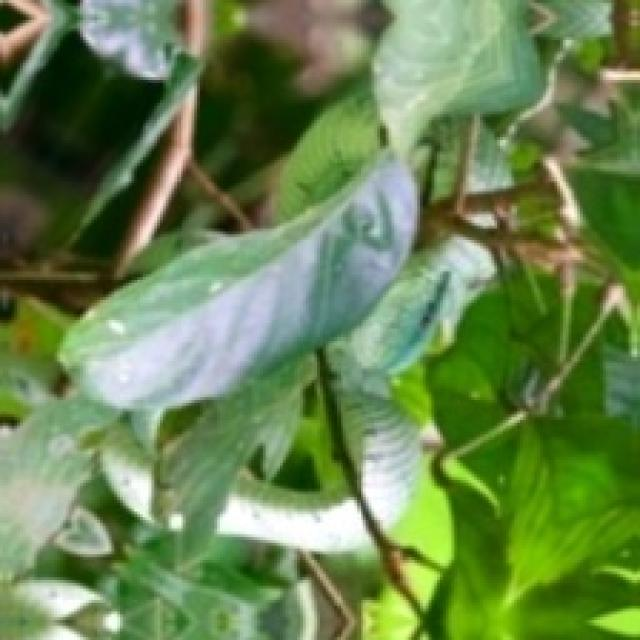north ph temple pitviper: (329, 239, 494, 527), (278, 99, 380, 217), (219, 480, 369, 552), (101, 421, 155, 521), (465, 121, 511, 196), (434, 120, 461, 179), (465, 201, 490, 228)
